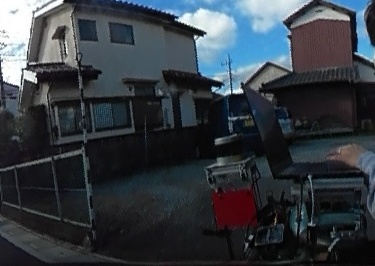person: (363, 0, 375, 264)
